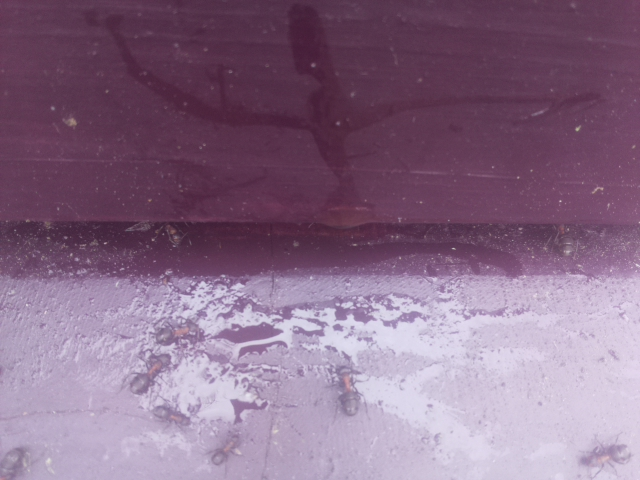ant: (123, 351, 171, 399), (573, 437, 634, 471), (206, 428, 245, 466), (148, 323, 207, 348), (332, 366, 363, 411), (0, 441, 34, 480), (156, 401, 191, 429), (553, 221, 577, 257), (158, 221, 189, 248)
